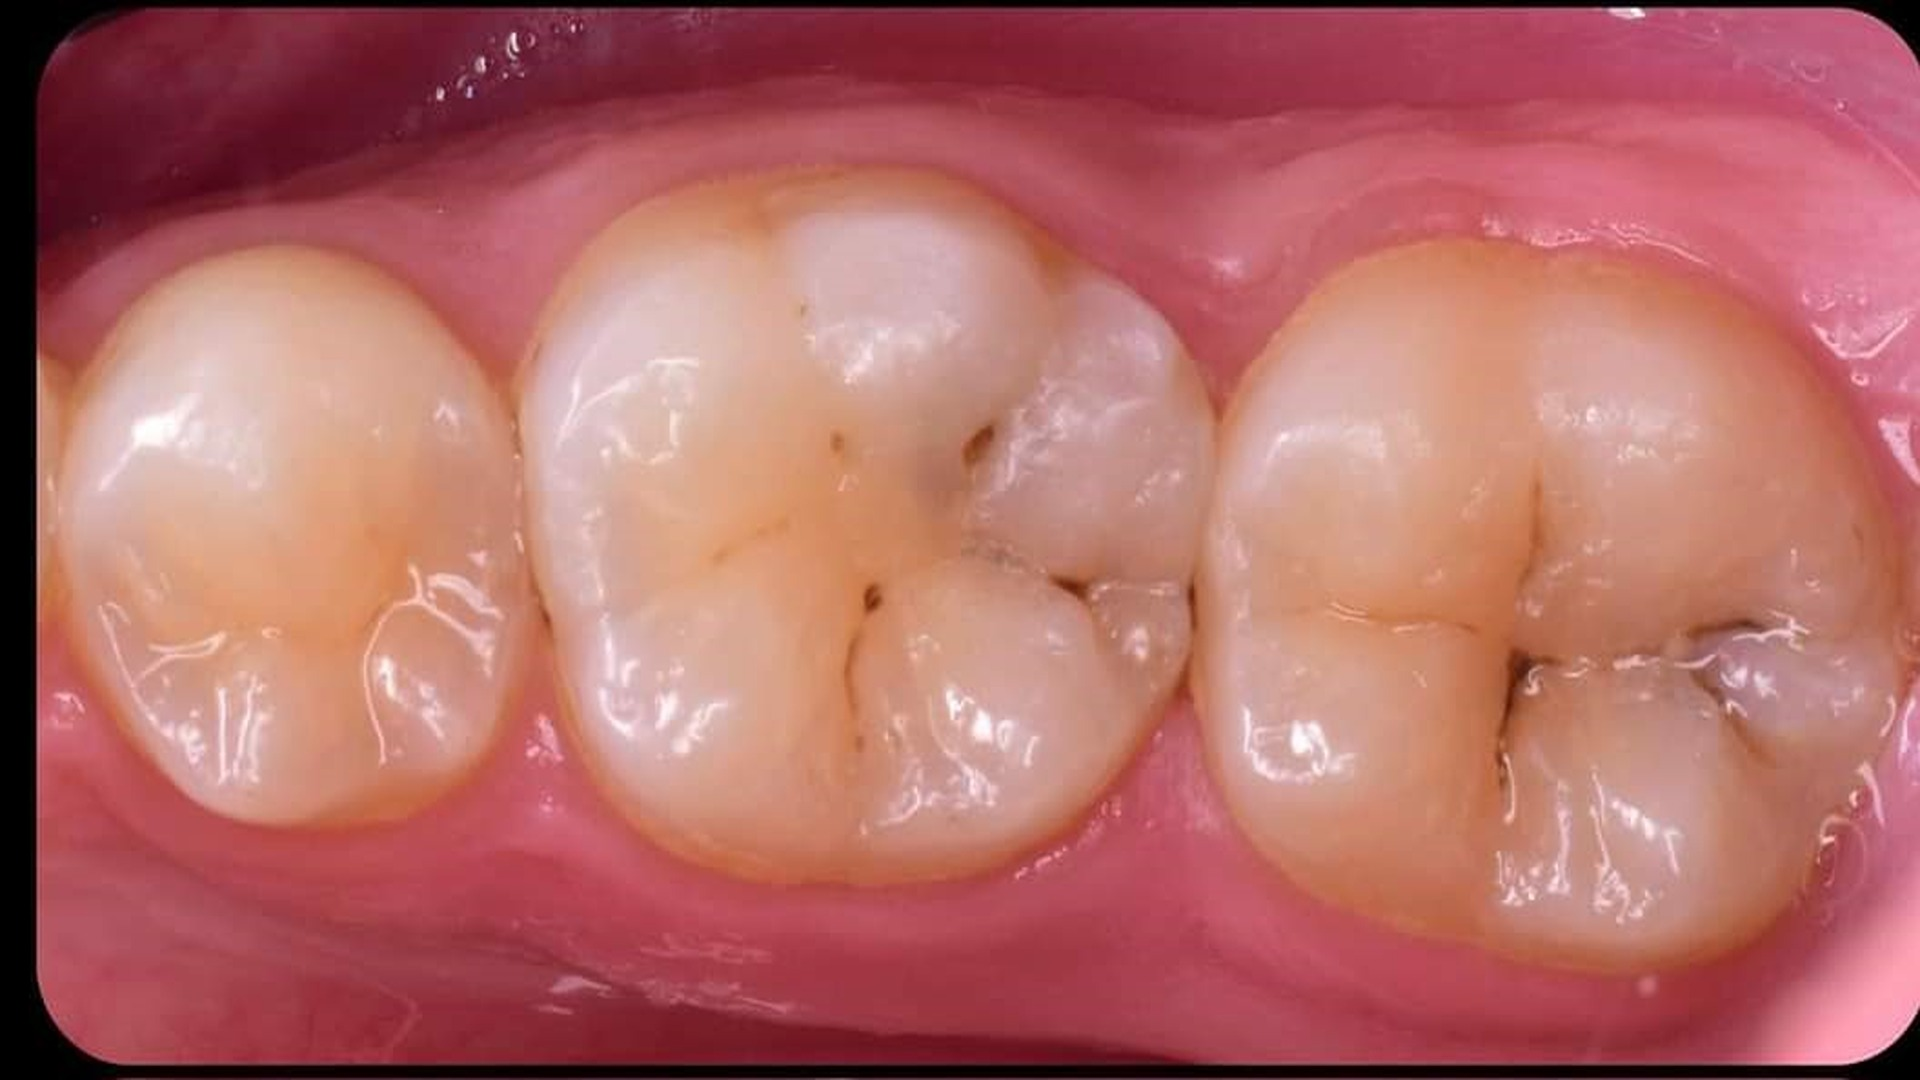tooth: (1189, 236, 1917, 978), (514, 164, 1216, 889), (55, 244, 537, 829)
